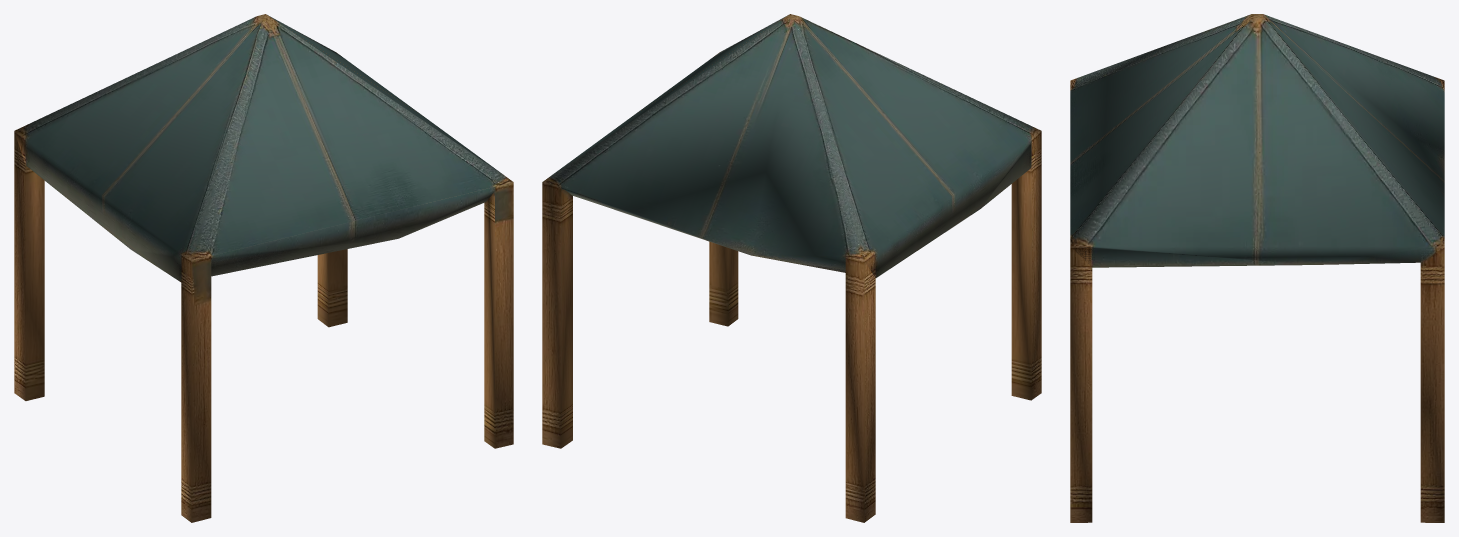
File: tend.glb
The picture shows the model from 3 angles, left to right: view 1: azimuth 30°, elevation 25°; view 2: azimuth 150°, elevation 25°; view 3: azimuth 270°, elevation 25°; orthographic projection. The views are drawn at different scales.
Parts seen in each view (by area): view 1: tripo_node_14588652-635b-4f80-b802-38e8e63583f4; view 2: tripo_node_14588652-635b-4f80-b802-38e8e63583f4; view 3: tripo_node_14588652-635b-4f80-b802-38e8e63583f4.
Boxes of the visible parts, x1,y1,x2,y2 form: tripo_node_14588652-635b-4f80-b802-38e8e63583f4: [14, 14, 513, 522]; tripo_node_14588652-635b-4f80-b802-38e8e63583f4: [542, 14, 1041, 522]; tripo_node_14588652-635b-4f80-b802-38e8e63583f4: [1070, 14, 1444, 522].
Bounding box in the file's own units: 0.8385 × 0.9995 × 0.8003.
Materials: 1 (1 with a texture image).
